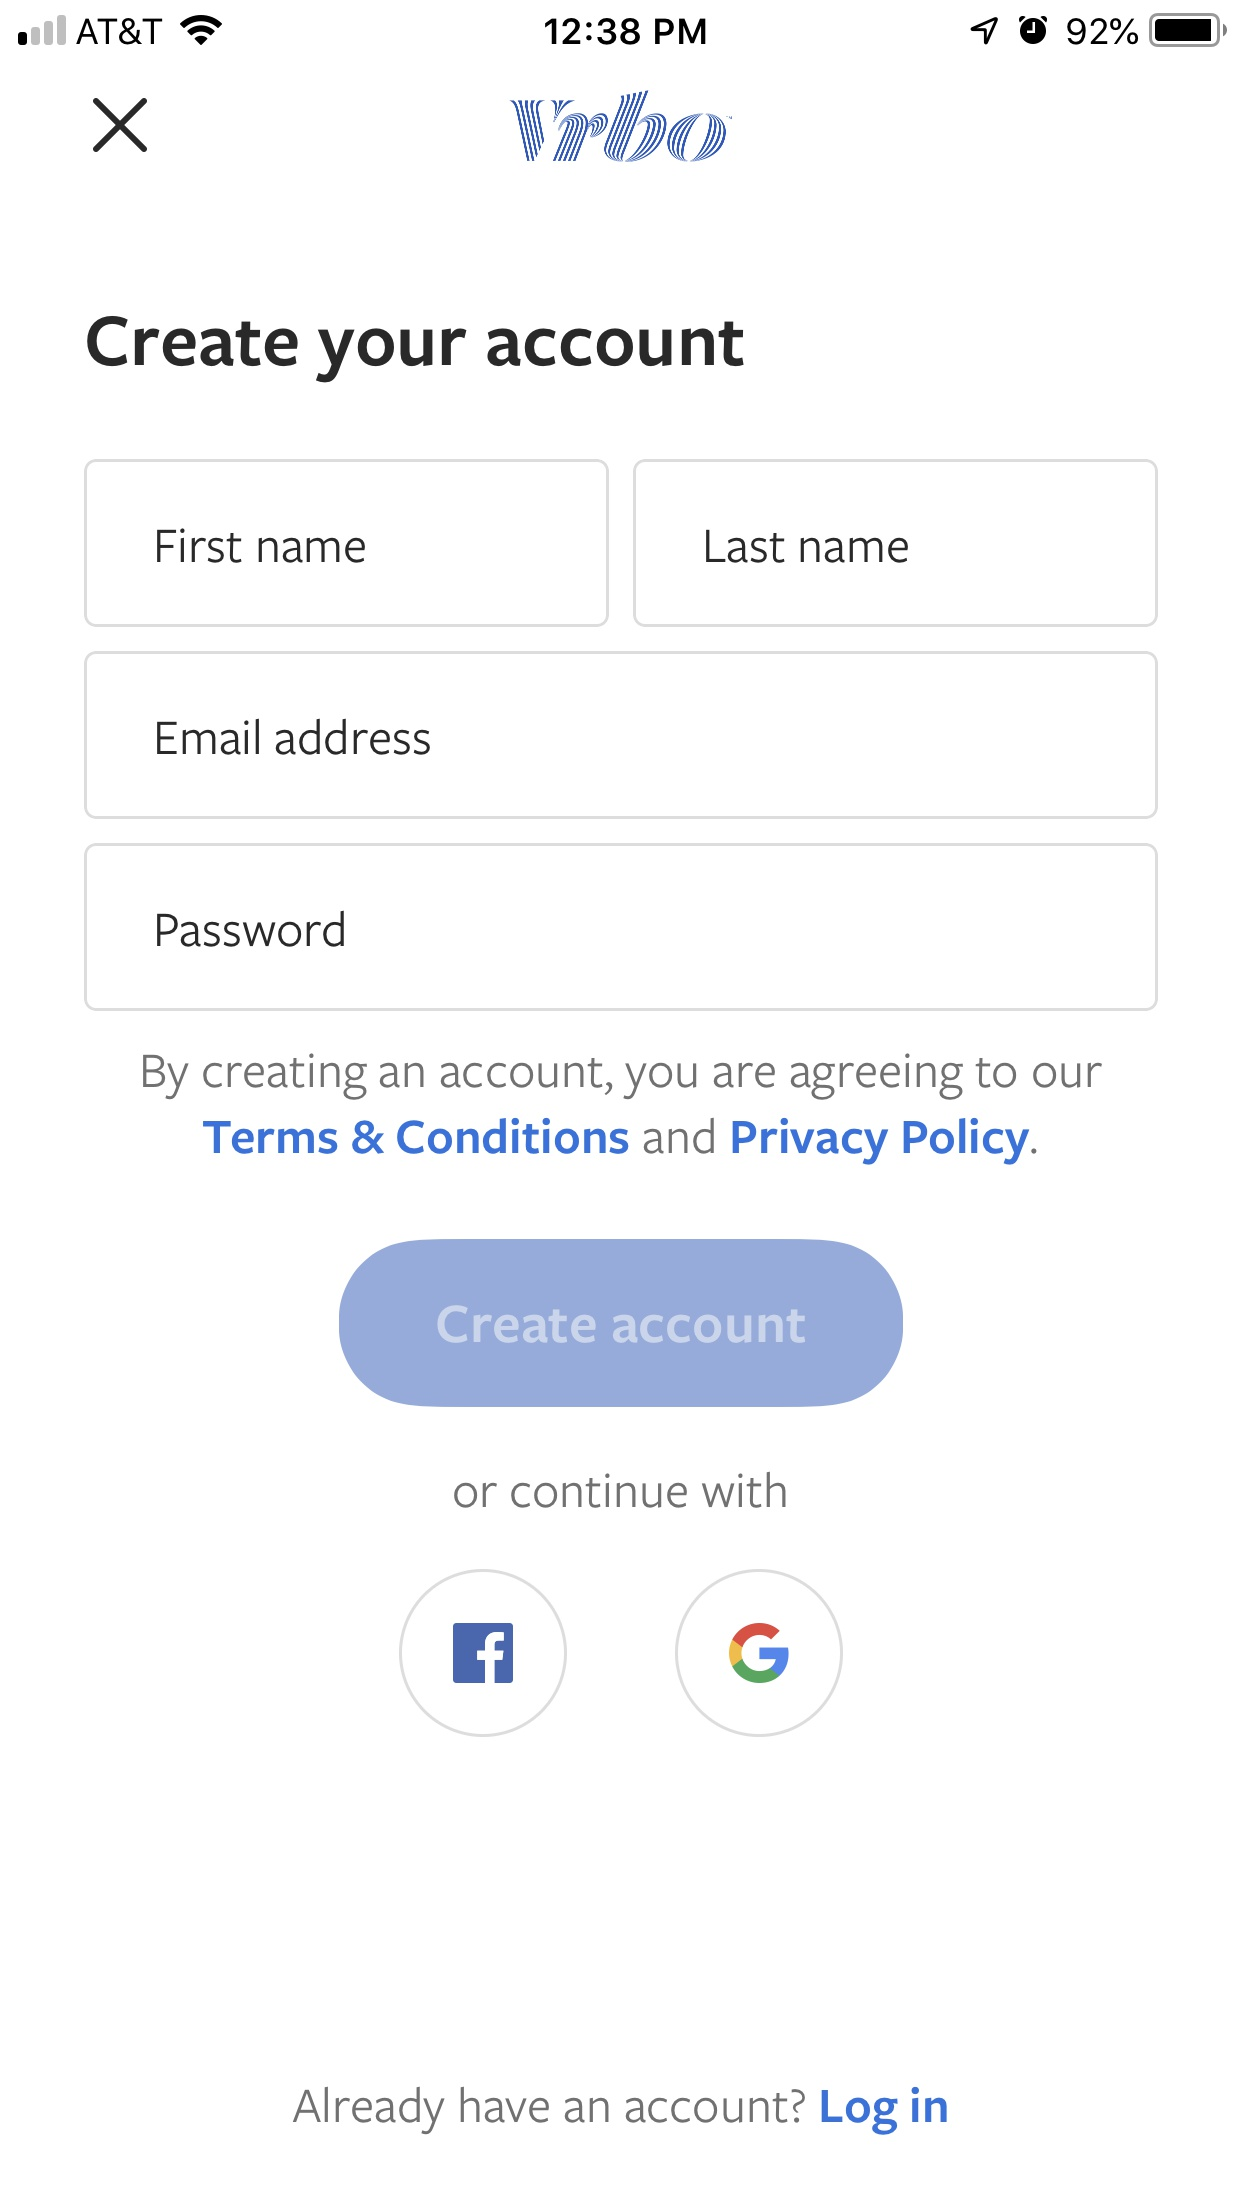EditText: (83, 651, 1159, 820), (85, 843, 1159, 1011), (83, 459, 610, 629), (632, 459, 1159, 628)
Icon: (397, 1568, 569, 1738), (673, 1568, 845, 1738), (93, 99, 149, 155)
Image: (510, 89, 726, 164)
Text: (143, 1052, 1102, 1168), (86, 315, 745, 385), (293, 2087, 948, 2135), (453, 1471, 787, 1509), (158, 719, 432, 757), (156, 528, 365, 564), (156, 908, 346, 948), (704, 529, 908, 566)
TextButton: (340, 1239, 904, 1409)
UpperTaskBar: (2, 2, 1242, 49)
